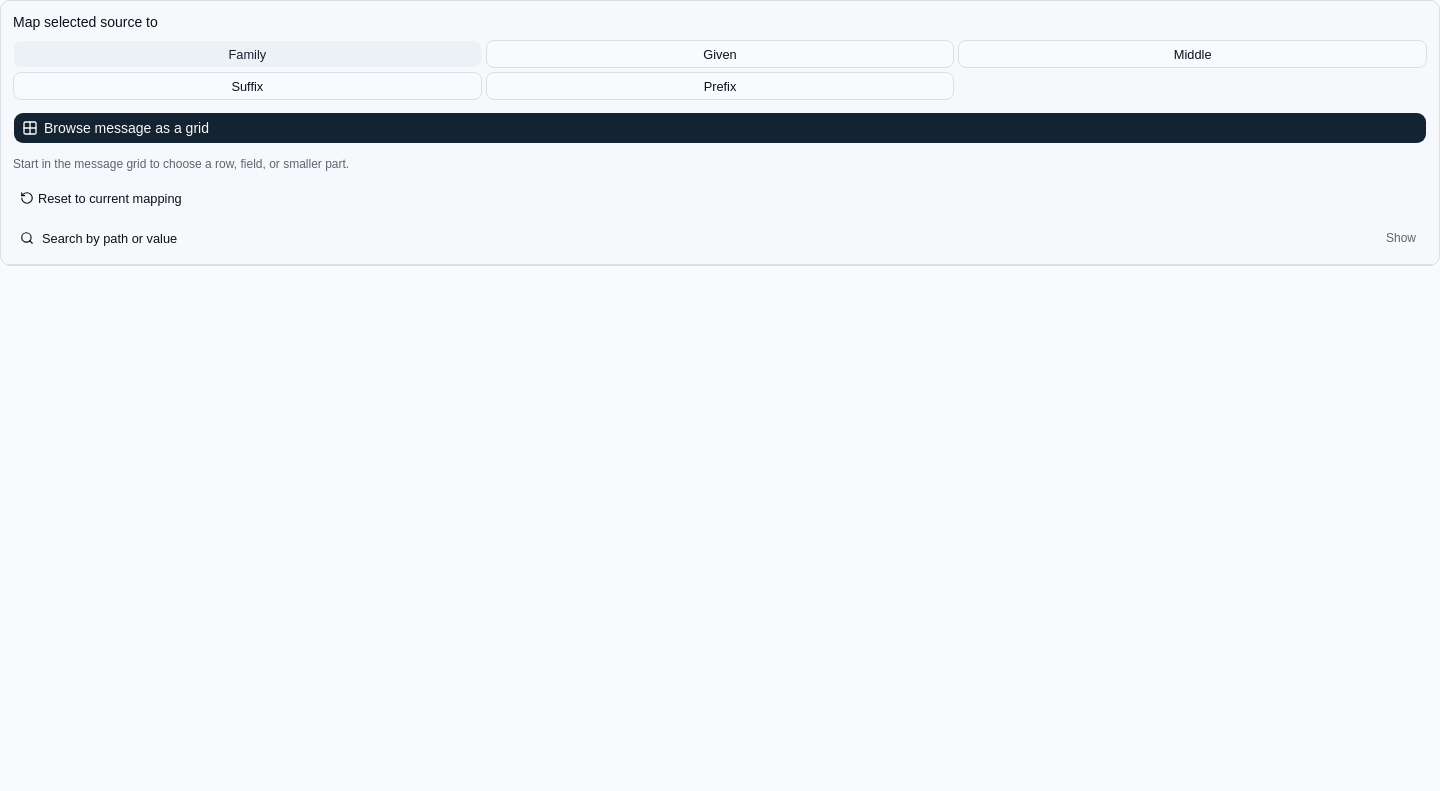
HL7 source browser › counts only empty sources that match the active search
Click the button "Search by path or value Show" at (110, 238), box [13,224,1427,252]
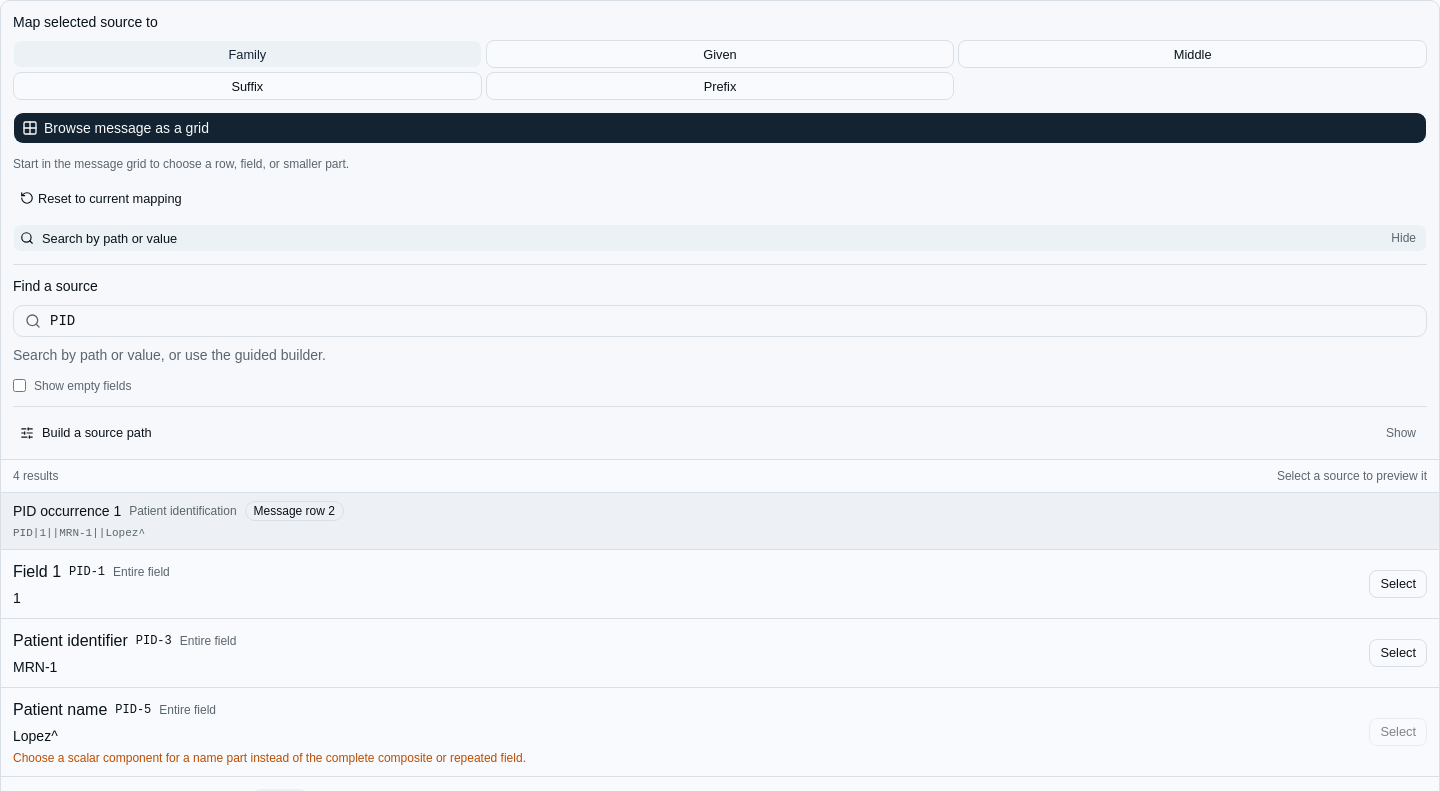
Replace the text in the field labelled "Find a source" with "PID-5.2" at (720, 320), box [13,304,1427,336]
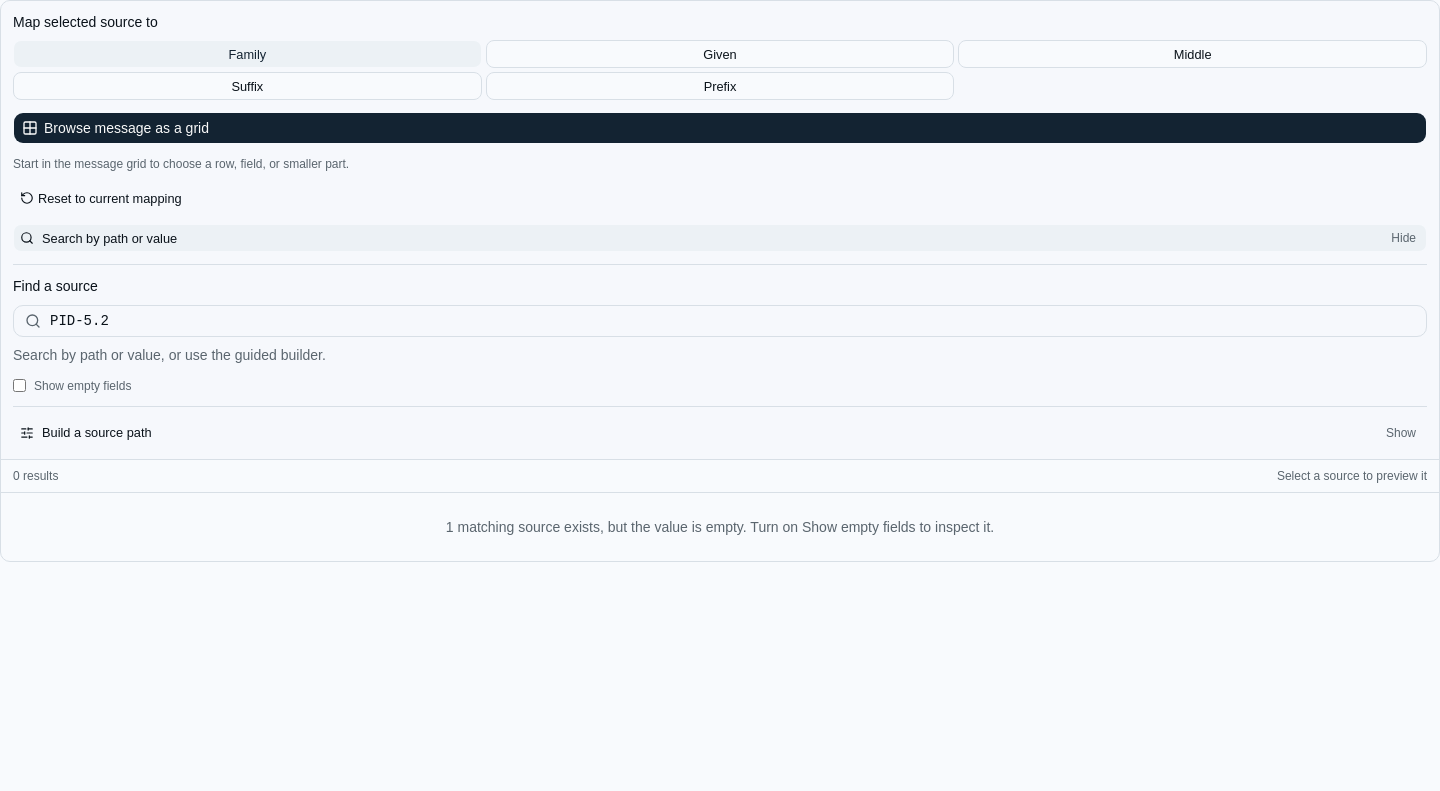
Expected: the text "1 matching source exists, but the value is empty" is shown, [446,518,994,534]
